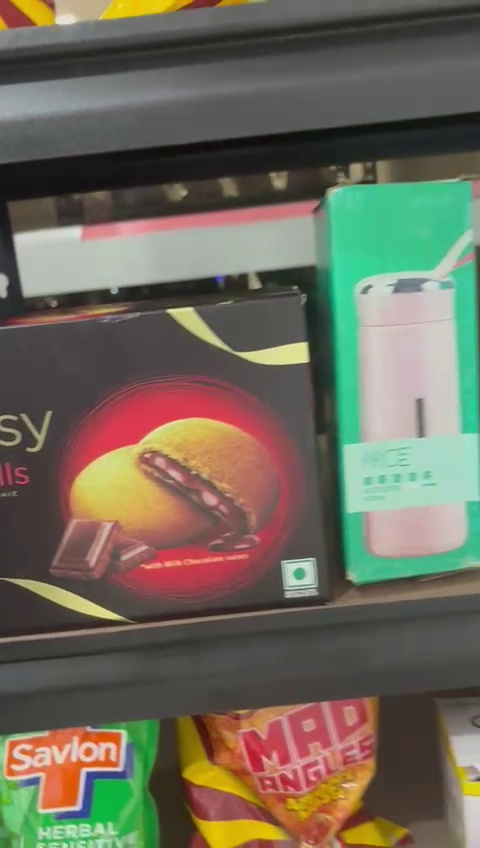Bottle: (321, 186, 480, 585)
